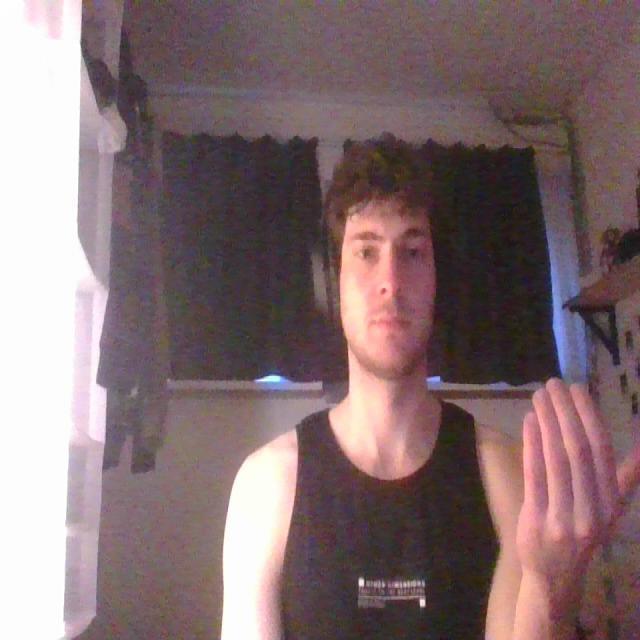forward: (511, 364, 636, 578)
